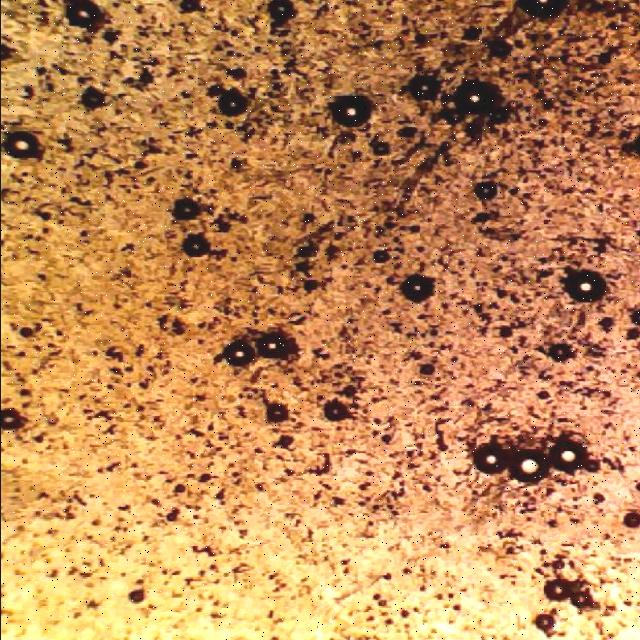microbeads: (562, 266, 606, 308), (454, 80, 498, 118), (546, 438, 586, 477), (466, 440, 506, 478), (254, 331, 296, 362), (62, 0, 104, 30), (1, 130, 42, 160), (398, 272, 434, 304), (317, 396, 349, 424), (0, 407, 26, 435)
